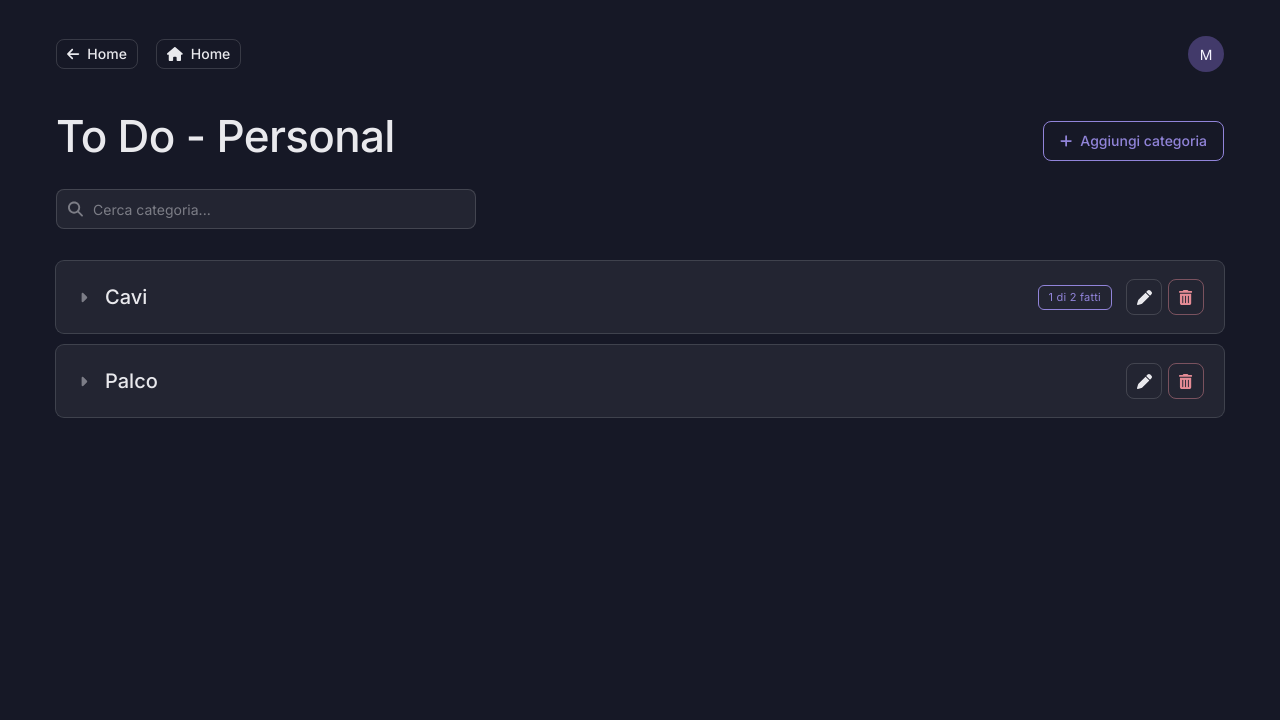
Test: CategoryListPage › rinomina una categoria
Click the button named "Modifica categoria Cavi" at {"x": 1144, "y": 297}, box left=1126, top=279, right=1162, bottom=315
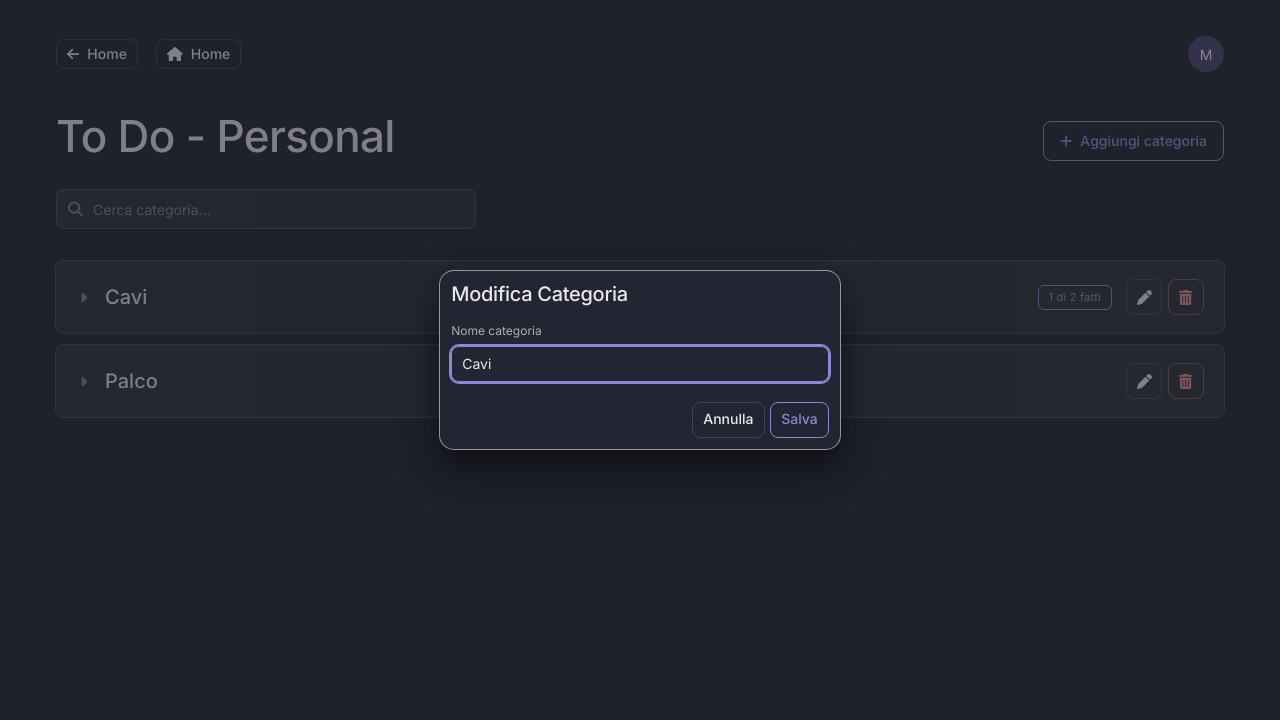
Replace the text in the field labelled "Nome categoria" with "Cavi audio" at {"x": 640, "y": 364}, box left=451, top=346, right=829, bottom=382
Then press Enter
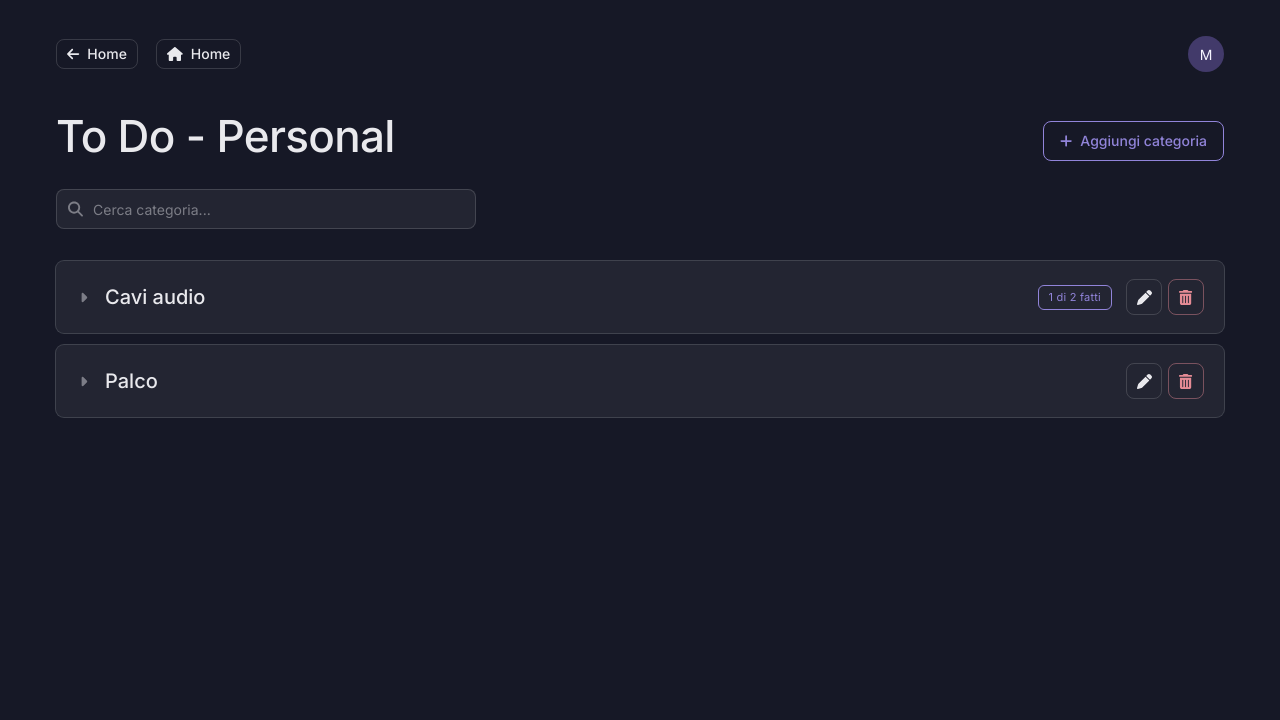
Result: the button "Cavi audio" is shown at left=76, top=285, right=1024, bottom=309
